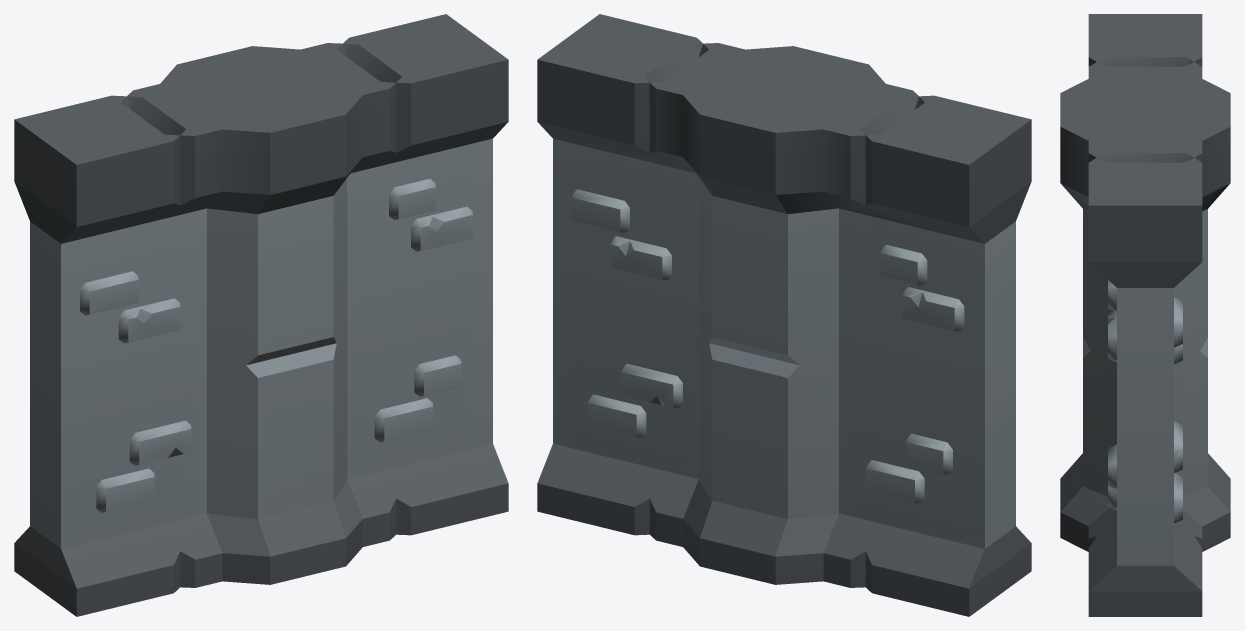
File: kaykit-dungeon-remastered-wall-pillar-gltf.glb
3 views of the same model, side by side, from view 1: azimuth 30°, elevation 25°; view 2: azimuth 150°, elevation 25°; view 3: azimuth 270°, elevation 25° (orthographic). The views are drawn at different scales.
Parts seen in each view (by area): view 1: wall_pillar; view 2: wall_pillar; view 3: wall_pillar.
Boxes of the visible parts, left/top/right/bottom form: wall_pillar: left=14, top=14, right=508, bottom=616; wall_pillar: left=537, top=14, right=1031, bottom=616; wall_pillar: left=1060, top=14, right=1230, bottom=616.
Size of the model in its own units: 4 by 4 by 1.5.
1 material, 1 textured.
